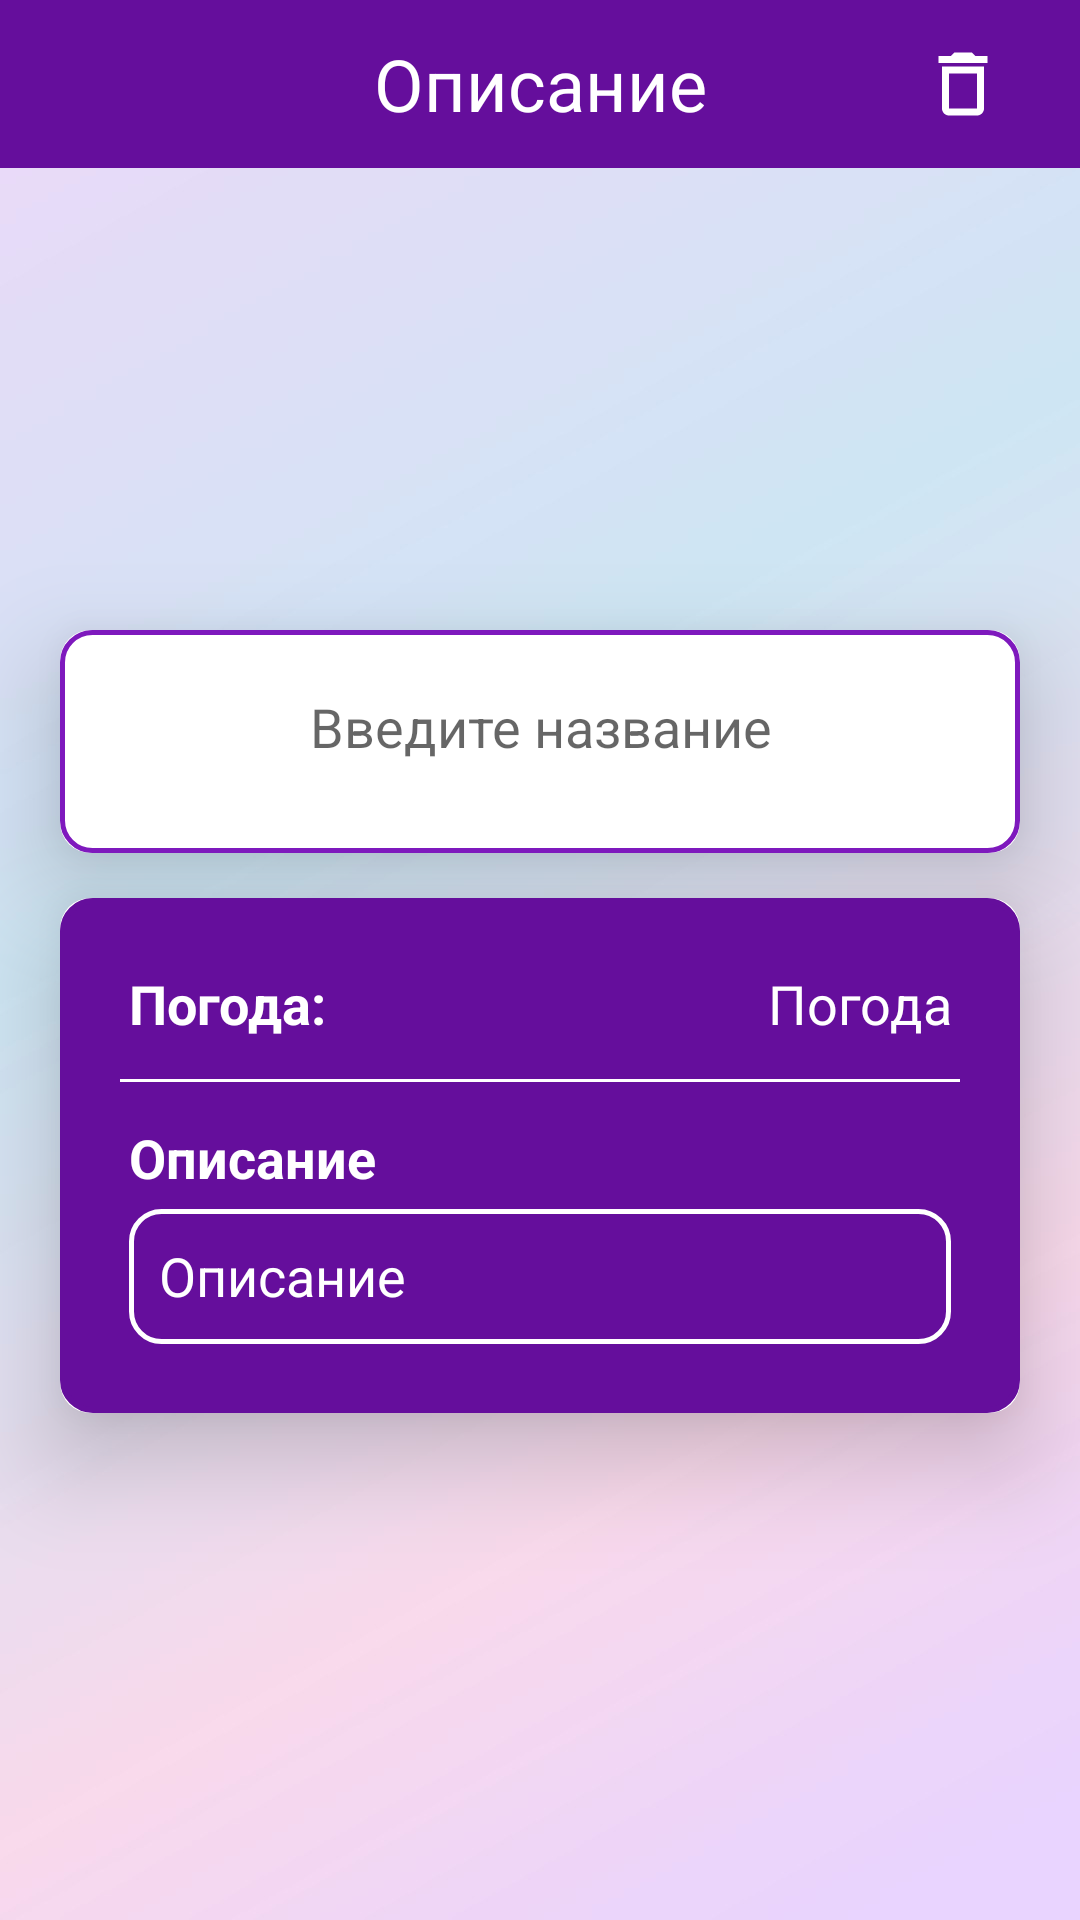

Icons on this 1080 × 1920 Android screen, each with the point to tap as (x=x, y=y):
Delete: (x=963, y=84)
